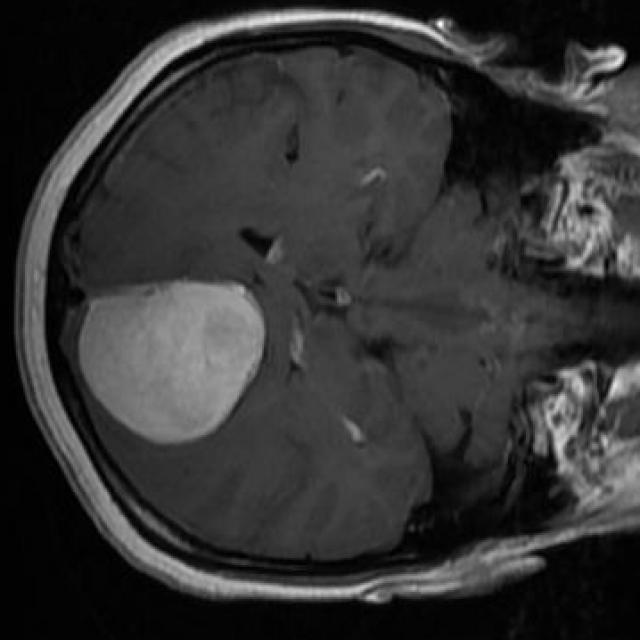meningioma: (80, 282, 266, 446)
